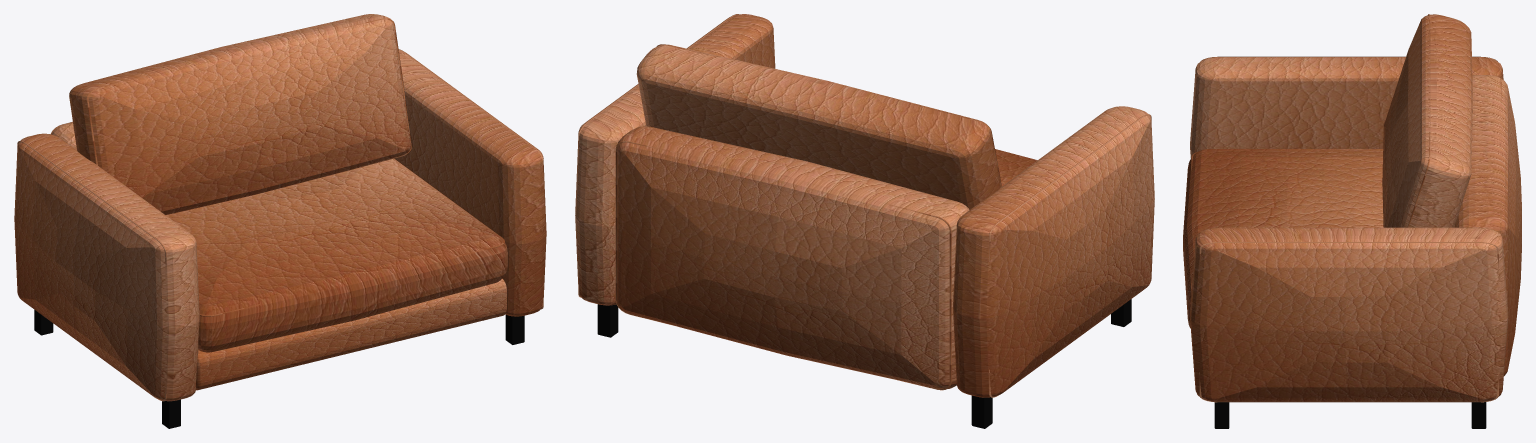
File: sofa.obj
The picture shows the model from 3 angles, left to right: view 1: azimuth 30°, elevation 25°; view 2: azimuth 150°, elevation 25°; view 3: azimuth 270°, elevation 25°; orthographic projection. The views are drawn at different scales.
Parts seen in each view (by area): view 1: KARLSTAD_Cube_81, KARLSTAD_Cube_1, KARLSTAD_Cube_2, KARLSTAD_Cube_3, KARLSTAD_Cube_4, KARLSTAD_Cube_81_Cube8, KARLSTAD_Cube_11_Cube_8, KARLSTAD_Cube_11_Cube_10; view 2: KARLSTAD_Cube_6, KARLSTAD_Cube_2, KARLSTAD_Cube_81, KARLSTAD_Cube_3, KARLSTAD_Cube_6_Cube, KARLSTAD_Cube_1, KARLSTAD_Cube_11_Cube_9, KARLSTAD_Cube_11; view 3: KARLSTAD_Cube_3, KARLSTAD_Cube_2, KARLSTAD_Cube_1, KARLSTAD_Cube_81, KARLSTAD_Cube_6, KARLSTAD_Cube_3_Cube1, KARLSTAD_Cube_2_Cube3, KARLSTAD_Cube_11_Cube_8, KARLSTAD_Cube_11_Cube_9.
Boxes of the visible parts, x1=… form: KARLSTAD_Cube_81: x1=69, y1=14, x2=410, y2=215; KARLSTAD_Cube_1: x1=166, y1=158, x2=507, y2=352; KARLSTAD_Cube_2: x1=14, y1=133, x2=199, y2=401; KARLSTAD_Cube_3: x1=395, y1=50, x2=546, y2=316; KARLSTAD_Cube_4: x1=196, y1=278, x2=506, y2=390; KARLSTAD_Cube_81_Cube8: x1=86, y1=18, x2=411, y2=168; KARLSTAD_Cube_11_Cube_8: x1=505, y1=315, x2=524, y2=344; KARLSTAD_Cube_11_Cube_10: x1=162, y1=399, x2=180, y2=428; KARLSTAD_Cube_6: x1=617, y1=126, x2=969, y2=389; KARLSTAD_Cube_2: x1=953, y1=106, x2=1154, y2=397; KARLSTAD_Cube_81: x1=636, y1=44, x2=1000, y2=209; KARLSTAD_Cube_3: x1=575, y1=14, x2=775, y2=305; KARLSTAD_Cube_6_Cube: x1=615, y1=141, x2=951, y2=390; KARLSTAD_Cube_1: x1=995, y1=149, x2=1037, y2=185; KARLSTAD_Cube_11_Cube_9: x1=597, y1=304, x2=618, y2=337; KARLSTAD_Cube_11: x1=971, y1=395, x2=992, y2=428; KARLSTAD_Cube_3: x1=1190, y1=227, x2=1508, y2=401; KARLSTAD_Cube_2: x1=1190, y1=57, x2=1503, y2=158; KARLSTAD_Cube_1: x1=1183, y1=149, x2=1383, y2=327; KARLSTAD_Cube_81: x1=1382, y1=14, x2=1472, y2=227; KARLSTAD_Cube_6: x1=1454, y1=75, x2=1521, y2=375; KARLSTAD_Cube_3_Cube1: x1=1199, y1=242, x2=1499, y2=402; KARLSTAD_Cube_2_Cube3: x1=1200, y1=56, x2=1497, y2=61; KARLSTAD_Cube_11_Cube_8: x1=1214, y1=402, x2=1229, y2=428; KARLSTAD_Cube_11_Cube_9: x1=1471, y1=402, x2=1486, y2=428.
Bounding box in the file's own units: 101 × 60.13 × 71.61.
3 materials, 2 textured.
